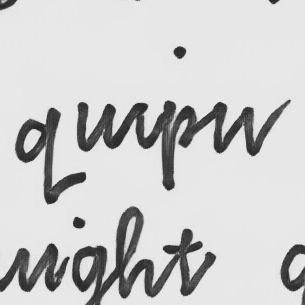i: (125, 96, 150, 152)
p: (157, 97, 201, 192)
q: (11, 106, 65, 207)
u: (210, 100, 256, 157), (75, 100, 119, 153)
